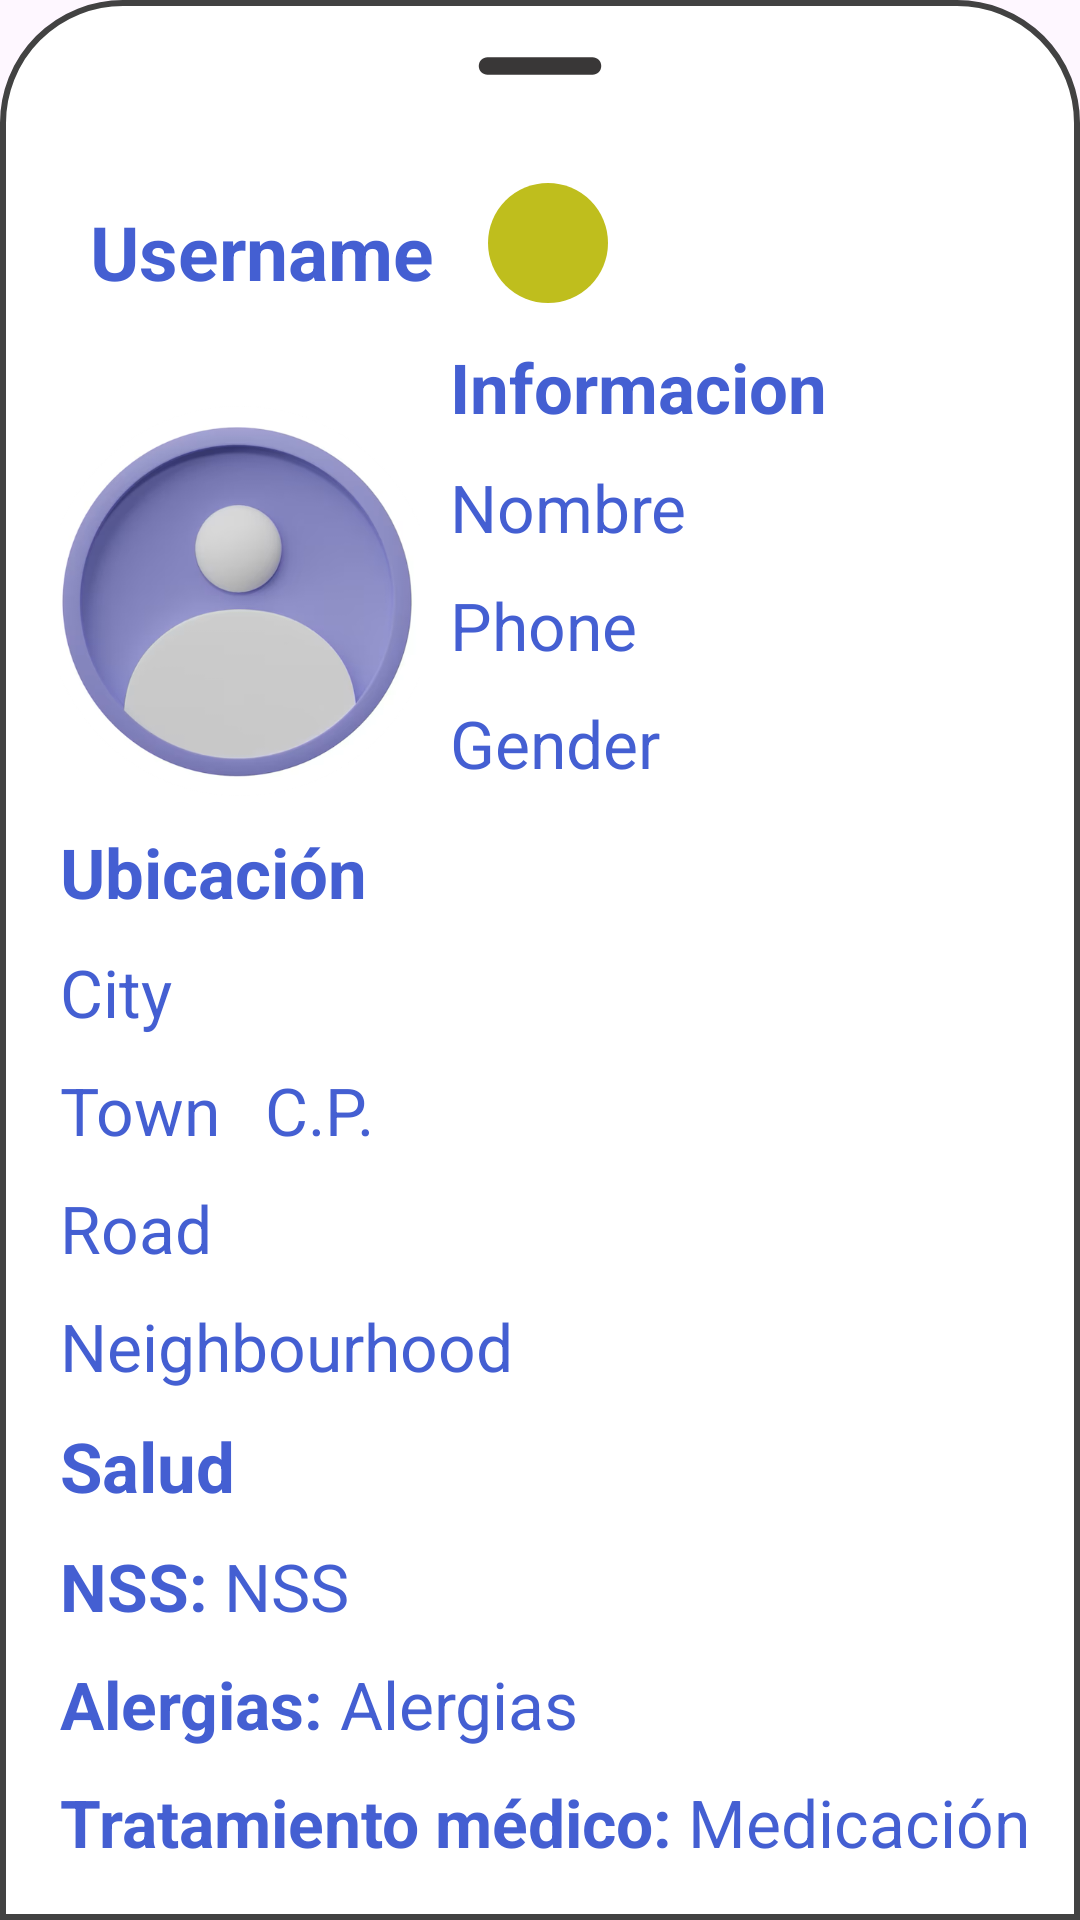

Where to tap for icons on this 1080 x 1920 app screen, as (x=x, y=y):
perfil: (x=237, y=602)
